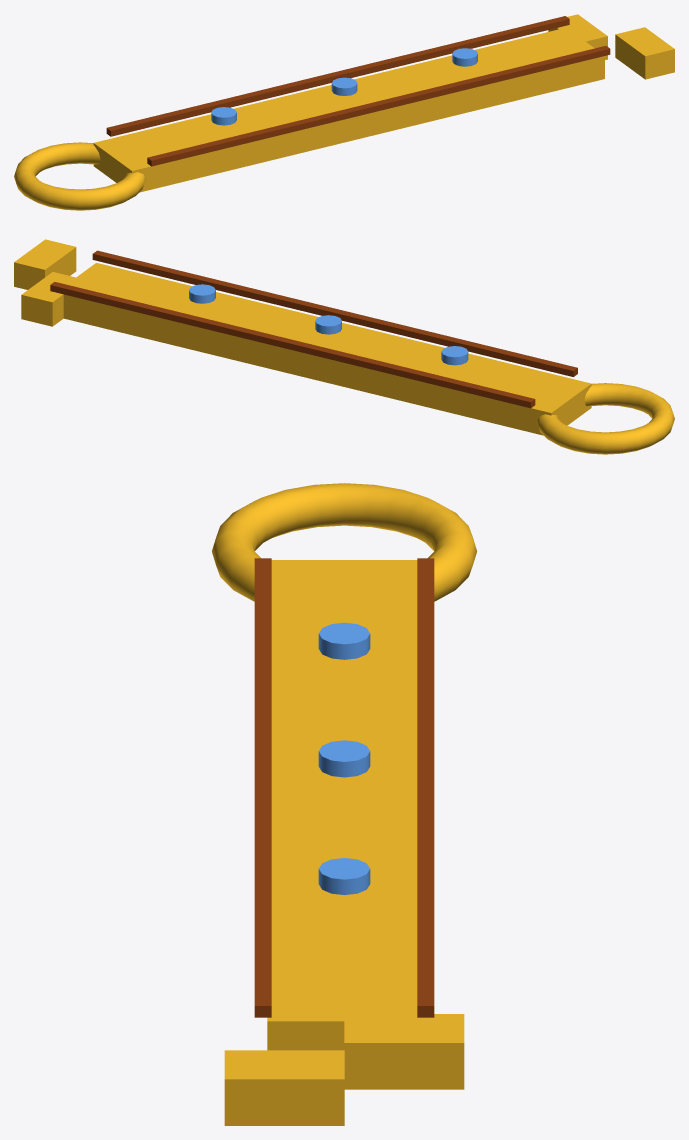
The model's file is toy_castle_key_bridge.glb.
3 views of the same model, one above another, from view 1: azimuth 30°, elevation 25°; view 2: azimuth 150°, elevation 25°; view 3: azimuth 270°, elevation 25° (orthographic). The views are drawn at different scales.
Parts seen in each view (by area): view 1: solid_1, solid_6, solid_5, solid_2, solid_4, solid_3, solid_8, solid_9, solid_7; view 2: solid_1, solid_5, solid_6, solid_2, solid_4, solid_3, solid_7, solid_8, solid_9; view 3: solid_1, solid_2, solid_4, solid_3, solid_5, solid_6, solid_8, solid_7, solid_9.
Part boxes in pixels (x1,y1,x2,y2): solid_1: (93,28,604,192); solid_6: (147,46,610,166); solid_5: (106,16,569,136); solid_2: (14,142,145,210); solid_4: (615,27,674,79); solid_3: (548,14,607,59); solid_8: (331,77,357,95); solid_9: (452,48,477,66); solid_7: (211,107,236,125); solid_1: (63,263,591,435); solid_5: (50,282,535,408); solid_6: (92,250,577,376); solid_2: (537,383,674,454); solid_4: (14,239,76,289); solid_3: (21,272,83,326); solid_7: (441,346,468,365); solid_8: (315,315,341,334); solid_9: (189,284,215,303); solid_1: (267,560,421,1050); solid_2: (212,483,476,601); solid_4: (224,1050,344,1125); solid_3: (344,1014,464,1089); solid_5: (417,558,434,1017); solid_6: (254,558,271,1017); solid_8: (318,740,370,777); solid_7: (318,622,370,659); solid_9: (318,858,370,894).
Size of the model in its own units: 6.71 by 0.42 by 1.24.
